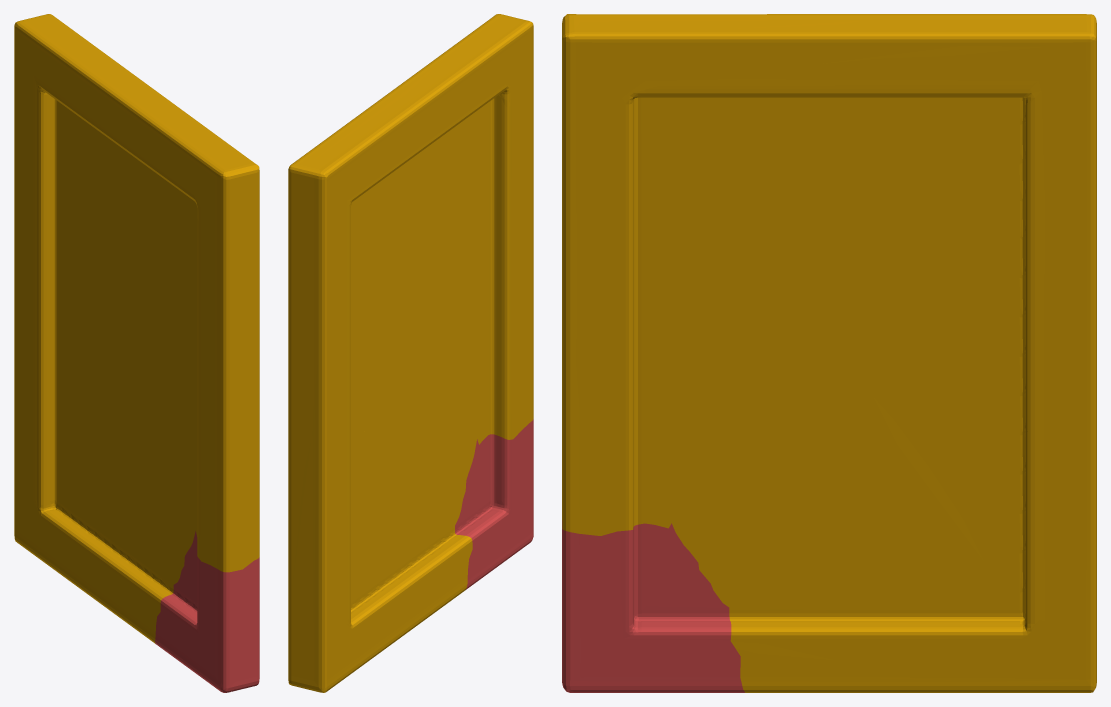
File: fractured_37_2pcs.glb
The picture shows the model from 3 angles, left to right: view 1: azimuth 30°, elevation 25°; view 2: azimuth 150°, elevation 25°; view 3: azimuth 270°, elevation 25°; orthographic projection. The views are drawn at different scales.
Parts seen in each view (by area): view 1: piece_0.obj, piece_1.obj; view 2: piece_0.obj, piece_1.obj; view 3: piece_0.obj, piece_1.obj.
Part boxes in pixels (bbox=[...]): piece_0.obj: bbox=[14, 14, 259, 643]; piece_1.obj: bbox=[155, 531, 259, 692]; piece_0.obj: bbox=[288, 14, 533, 692]; piece_1.obj: bbox=[455, 419, 533, 589]; piece_0.obj: bbox=[562, 14, 1096, 692]; piece_1.obj: bbox=[562, 520, 744, 692].
Size of the model in its own units: 0.0765 by 1 by 0.7347.
